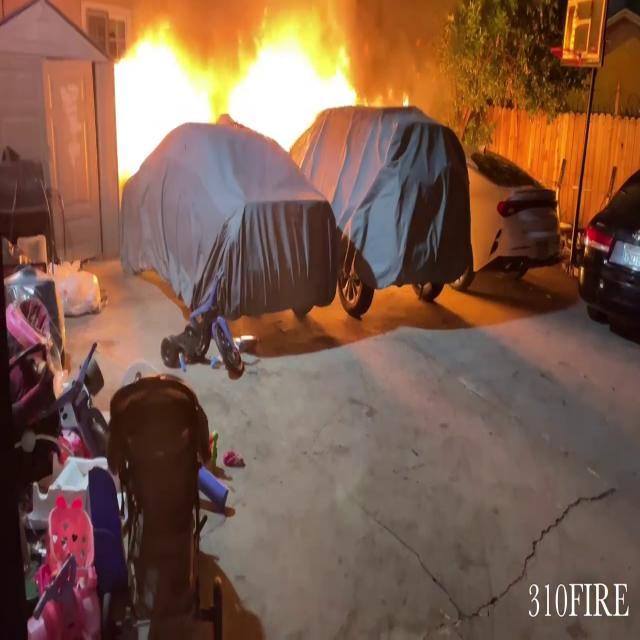Fire: (106, 2, 368, 172)
